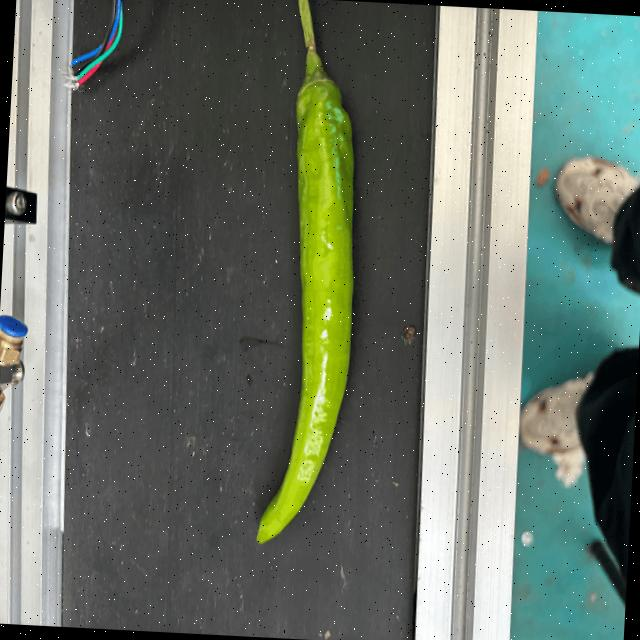chili: (257, 71, 357, 548)
